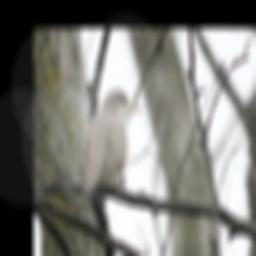Cuckoo: (79, 88, 141, 202)
